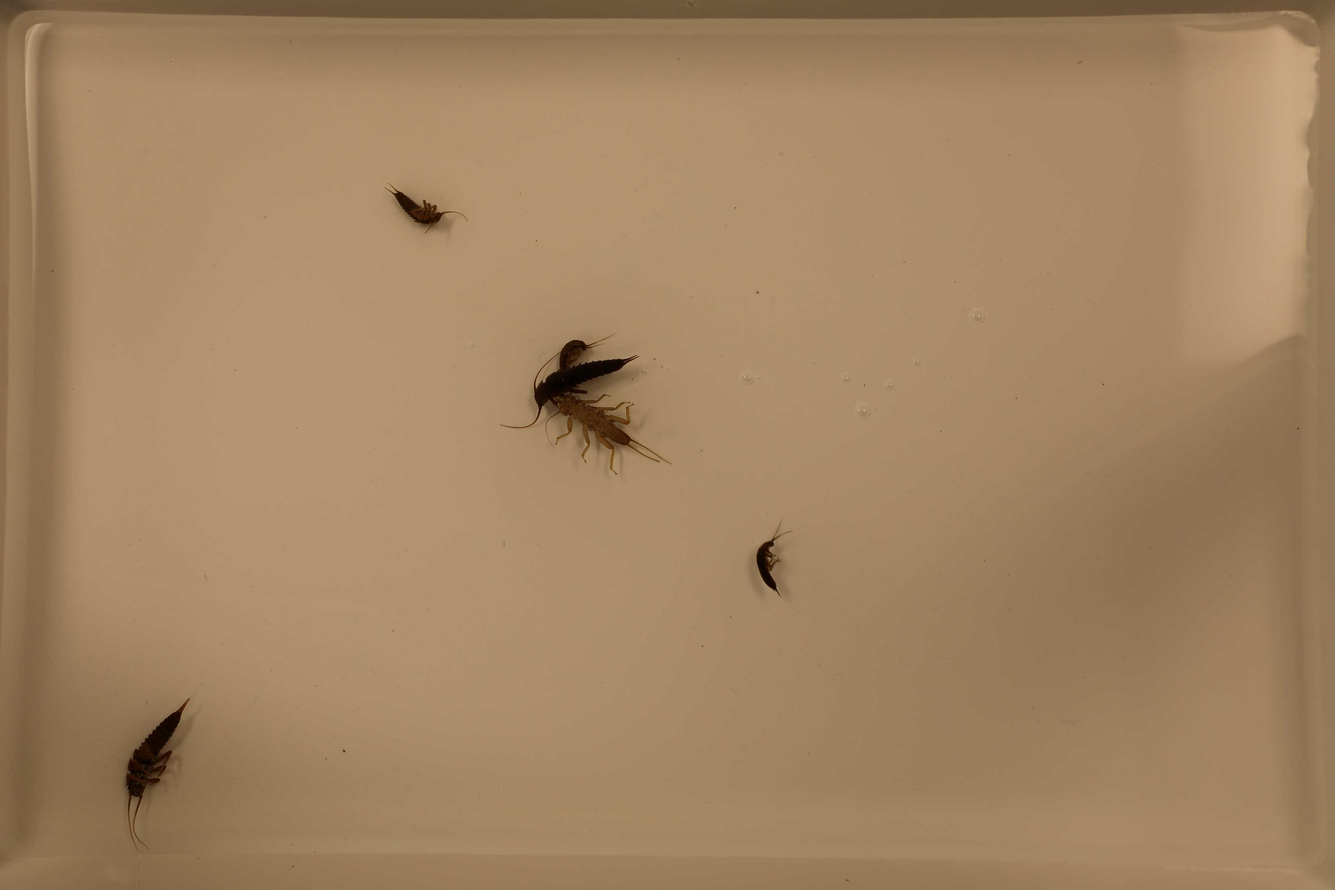Stonefly: (119, 700, 196, 850), (500, 357, 636, 433), (552, 406, 667, 482), (376, 183, 472, 236), (755, 514, 796, 599), (558, 332, 614, 373)
